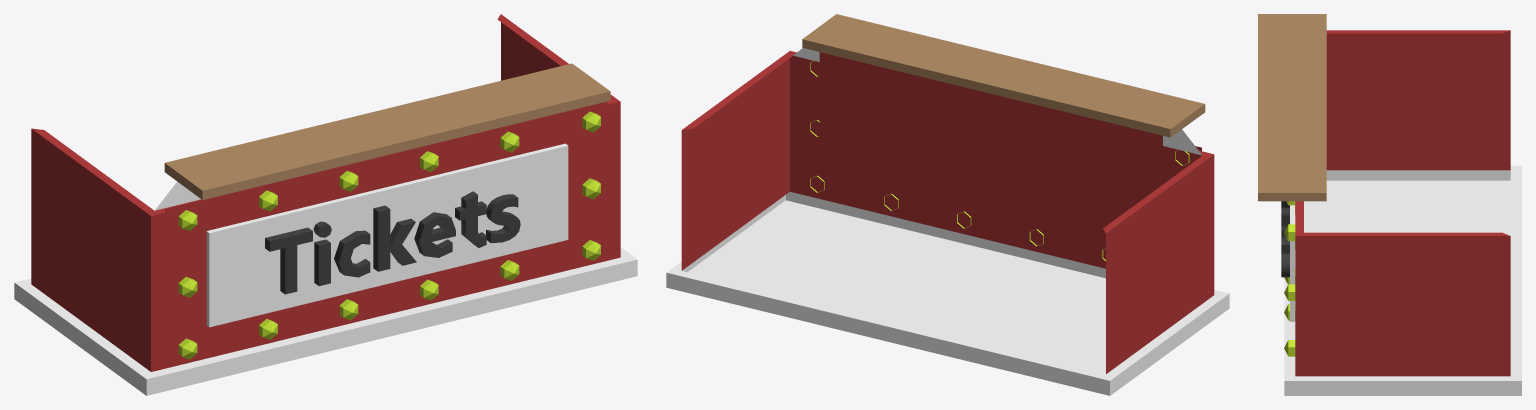
The model's file is SM_ticket_dostypen.fbx.
3 views of the same model, side by side, from view 1: azimuth 30°, elevation 25°; view 2: azimuth 150°, elevation 25°; view 3: azimuth 270°, elevation 25° (orthographic). The views are drawn at different scales.
Parts seen in each view (by area): view 1: Box099; view 2: Box099; view 3: Box099.
Boxes of the visible parts, <box> form: Box099: <box>14,14,637,395</box>; Box099: <box>666,14,1229,395</box>; Box099: <box>1258,14,1521,395</box>.
Bounding box in the file's own units: 250 × 100 × 129.
